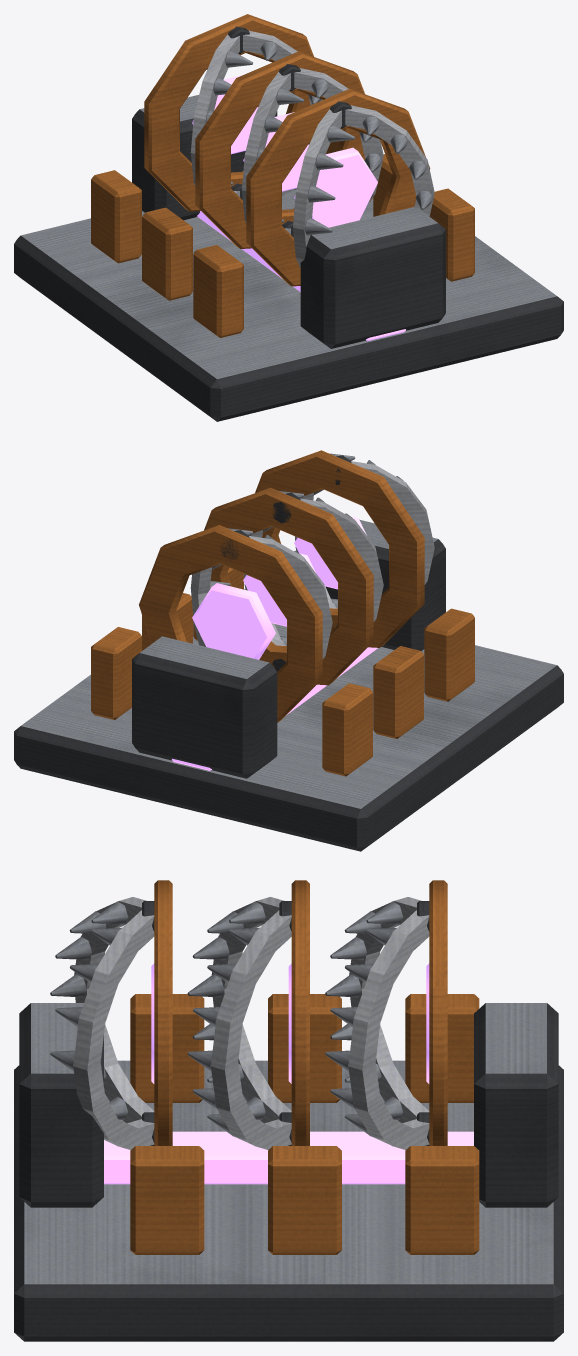
File: R4X_SnareTrapDeployer_LOD1.glb
3 renders of one model, top to bottom at view 1: azimuth 30°, elevation 25°; view 2: azimuth 150°, elevation 25°; view 3: azimuth 270°, elevation 25°, orthographic. The views are drawn at different scales.
Parts seen in each view (by area): view 1: R4X_SnareTrapDeployer_LOD1; view 2: R4X_SnareTrapDeployer_LOD1; view 3: R4X_SnareTrapDeployer_LOD1.
Part boxes in pixels (x1,y1,x2,y2): R4X_SnareTrapDeployer_LOD1: (14,14,563,421); R4X_SnareTrapDeployer_LOD1: (14,450,563,851); R4X_SnareTrapDeployer_LOD1: (14,880,563,1341).
Bounding box in the file's own units: 0.52 × 0.3492 × 0.52.
Materials: 5 (4 with a texture image).
